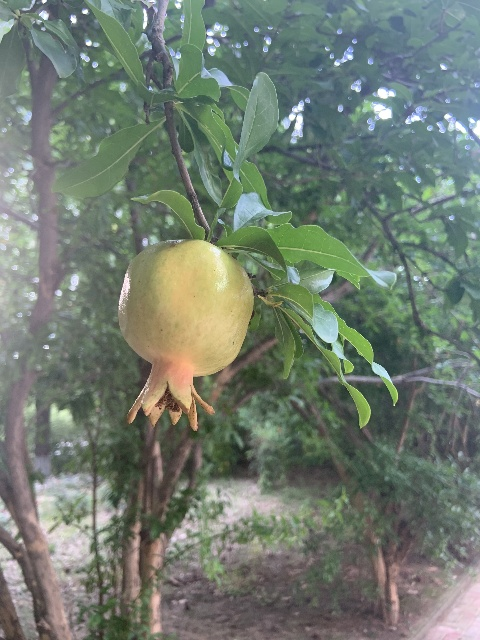mid-growth: (116, 239, 254, 430)
